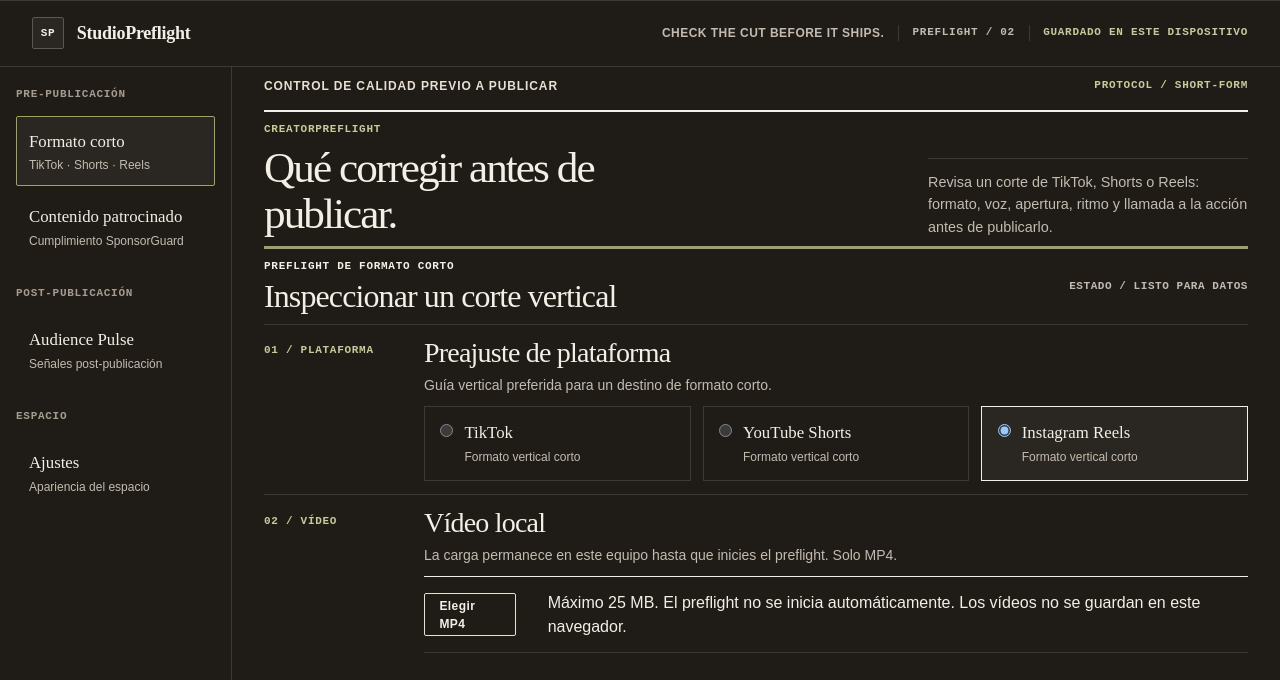
language and color mode › translates the shell, Settings, Short-Form, Sponsored Content, and persistence copy
Expected: the button "Ajustes Apariencia del espacio" is shown, 16,438 -> 215,508
Expected: the heading "Qué corregir antes de publicar." is shown, 264,144 -> 594,237
Click the button "Contenido patrocinado Cumplimiento SponsorGuard" at (116, 227), box 16,192 -> 215,262
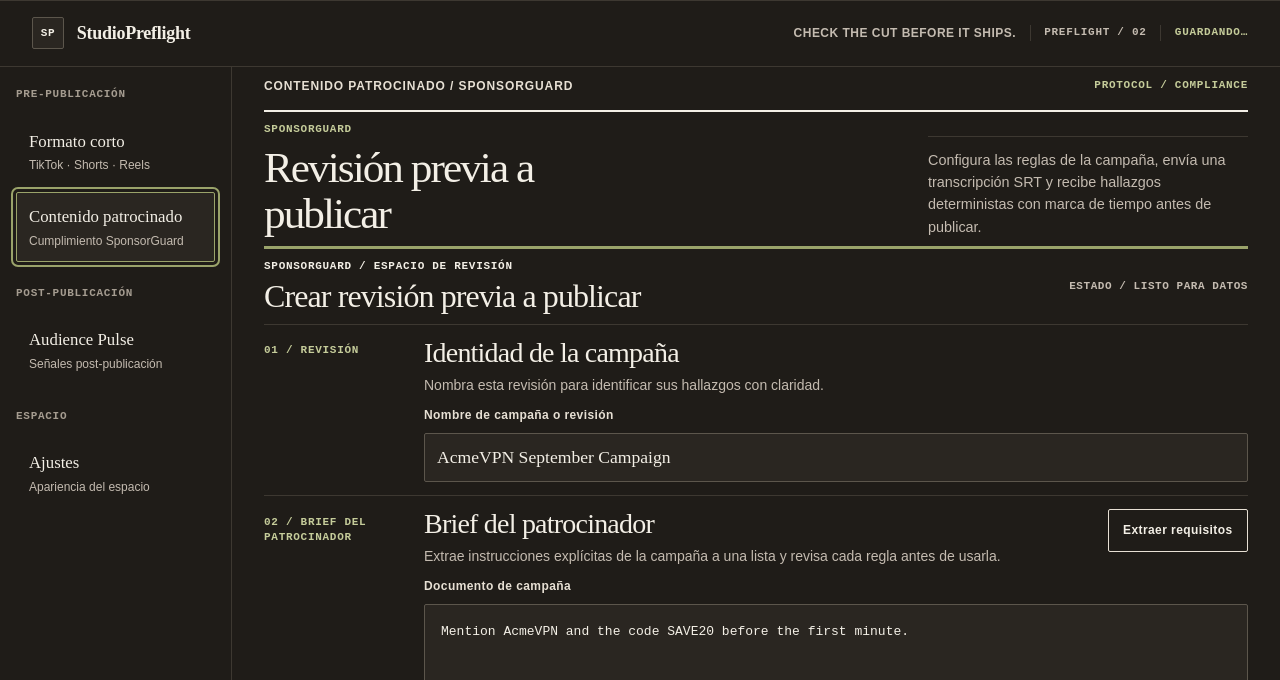
Result: the field labelled "Nombre de campaña o revisión" holds "AcmeVPN September Campaign" at 424,433 -> 1248,482
Result: the heading "Identidad de la campaña" is shown at 424,337 -> 679,368
Result: the heading "Brief del patrocinador" is shown at 424,508 -> 654,539
Click the button "Ajustes Apariencia del espacio" at (116, 473), box 16,438 -> 215,508
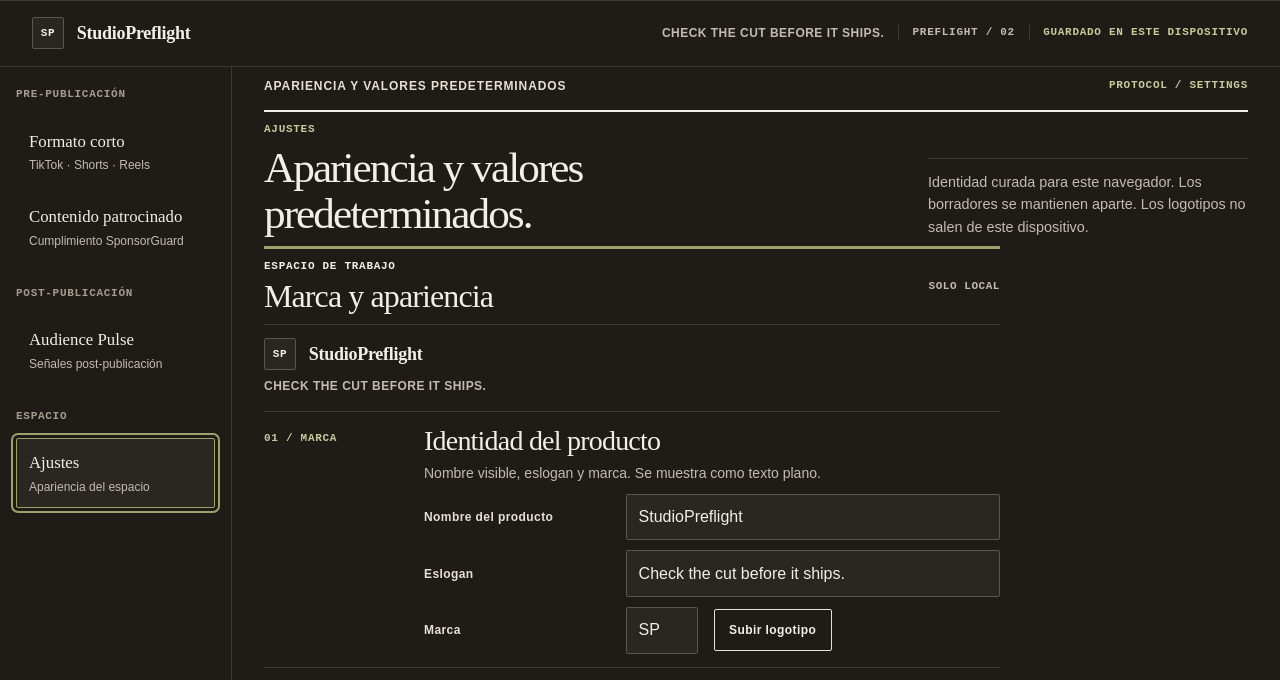
Result: the text "Guardado en este dispositivo" is shown at 1043,26 -> 1248,41
